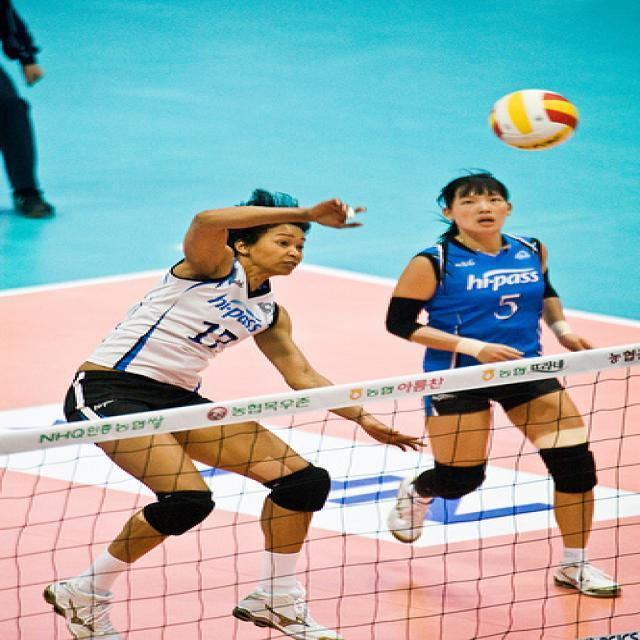volleyball: (490, 89, 578, 150)
